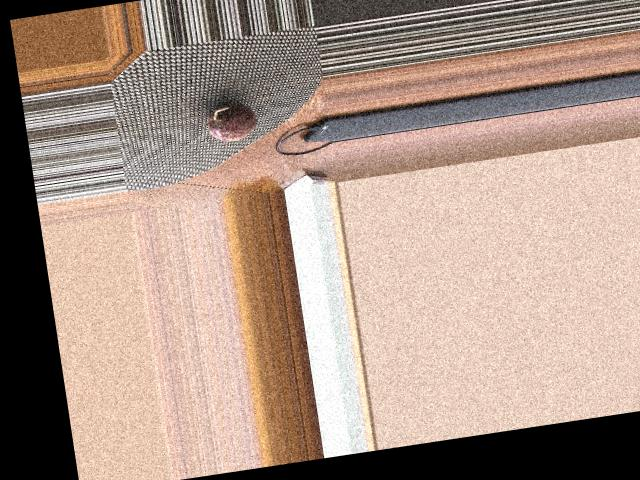beet: (205, 99, 259, 144)
